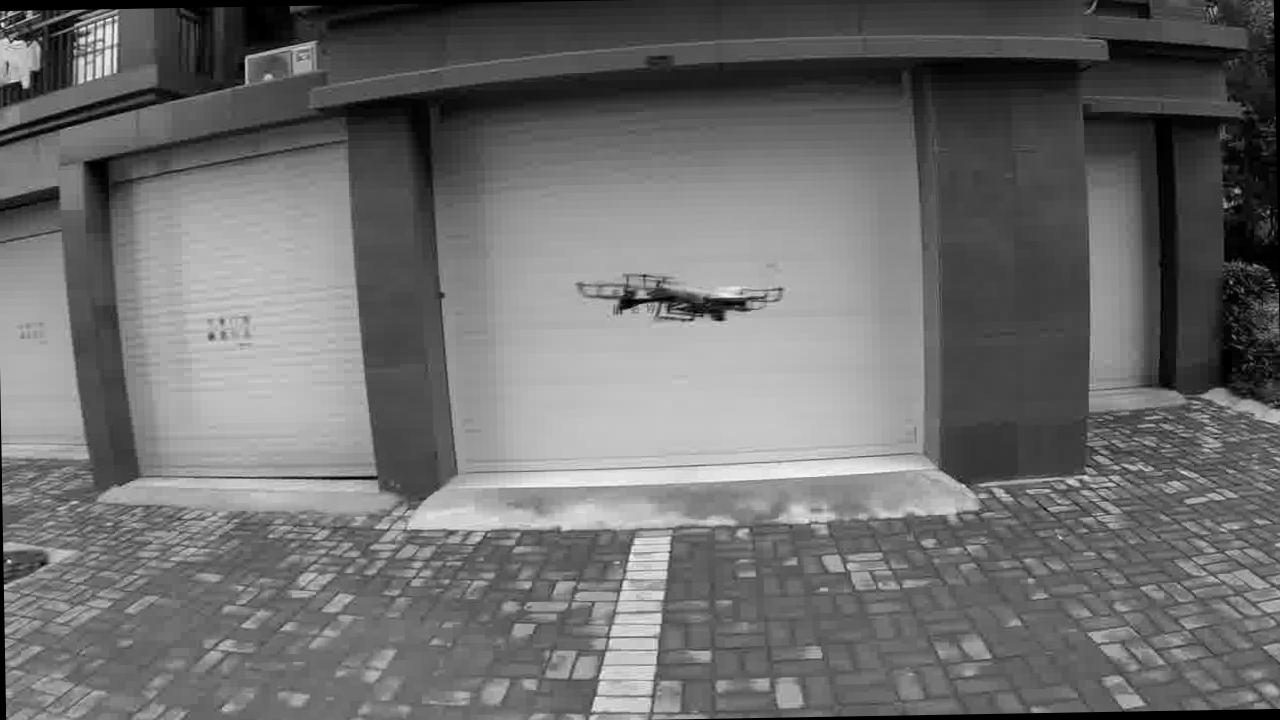drone: (584, 268, 794, 322)
